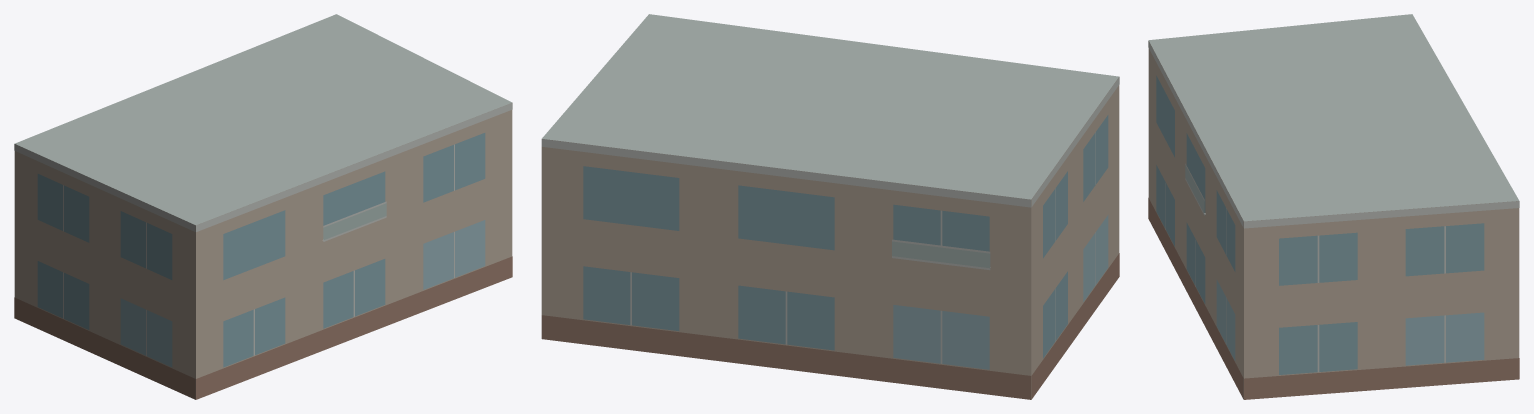
The model's file is survey-upis-32939809.glb.
3 renders of one model, left to right at view 1: azimuth 30°, elevation 25°; view 2: azimuth 150°, elevation 25°; view 3: azimuth 270°, elevation 25°, orthographic. The views are drawn at different scales.
Visible parts, largest first — view 1: survey-upis-32939809.tmp; view 2: survey-upis-32939809.tmp; view 3: survey-upis-32939809.tmp.
Part boxes in pixels (x1=…): survey-upis-32939809.tmp: x1=14, y1=14, x2=512, y2=399; survey-upis-32939809.tmp: x1=541, y1=14, x2=1119, y2=399; survey-upis-32939809.tmp: x1=1148, y1=14, x2=1519, y2=399.
Size of the model in its own units: 15.21 by 6.1 by 11.5.
